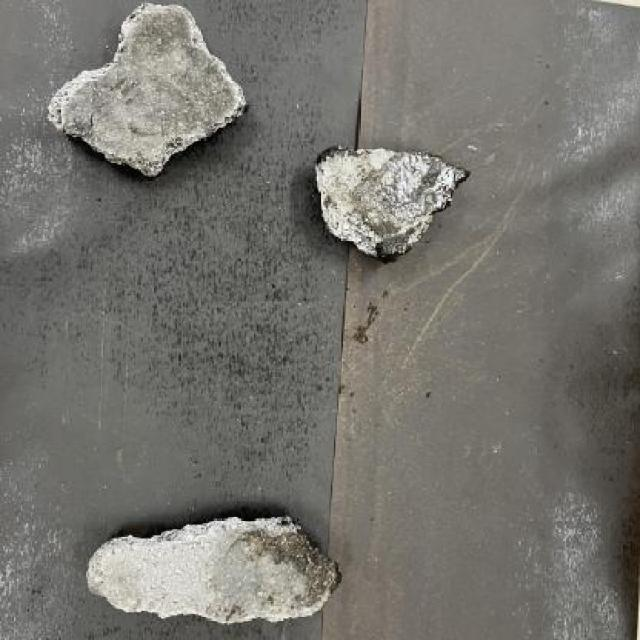Road Debris: (60, 7, 242, 175), (232, 516, 337, 630), (353, 146, 455, 252)
